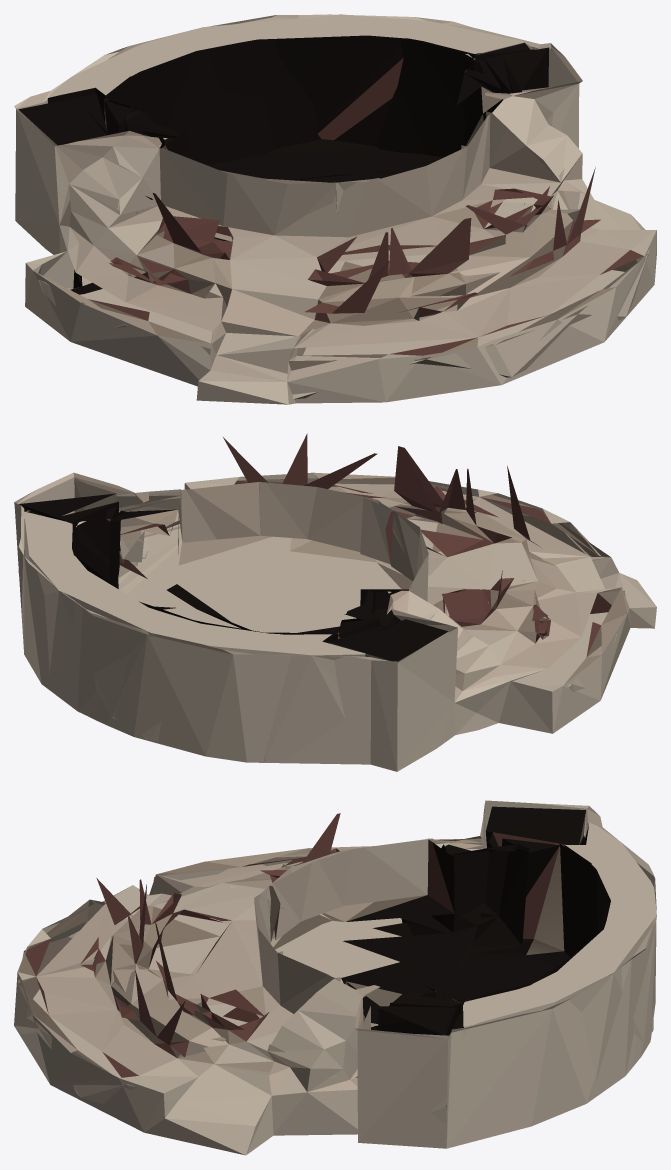
The model's file is etape-1.glb.
3 renders of one model, top to bottom at view 1: azimuth 30°, elevation 25°; view 2: azimuth 150°, elevation 25°; view 3: azimuth 270°, elevation 25°, orthographic. The views are drawn at different scales.
Visible parts, largest first — view 1: reduit; view 2: reduit; view 3: reduit.
Part boxes in pixels (bbox=[...]): reduit: bbox=[14, 14, 656, 404]; reduit: bbox=[14, 433, 656, 771]; reduit: bbox=[14, 800, 656, 1155].
Bounding box in the file's own units: 0.9718 × 0.2046 × 0.9858.
